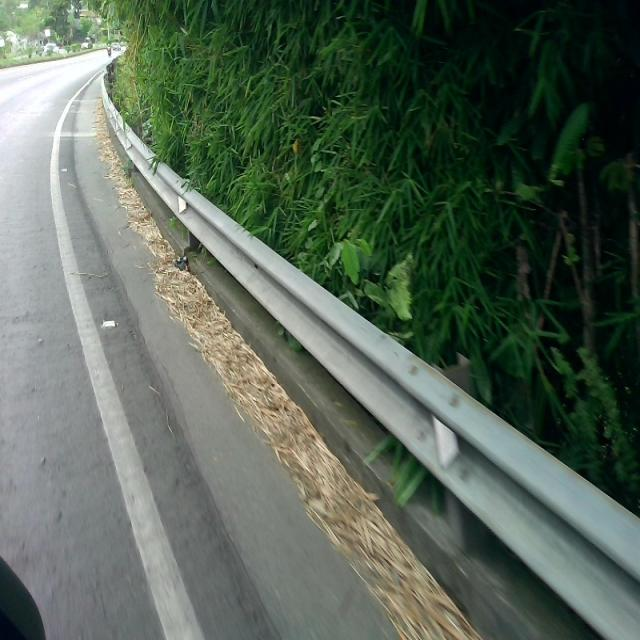DITCH: (93, 64, 484, 639)
